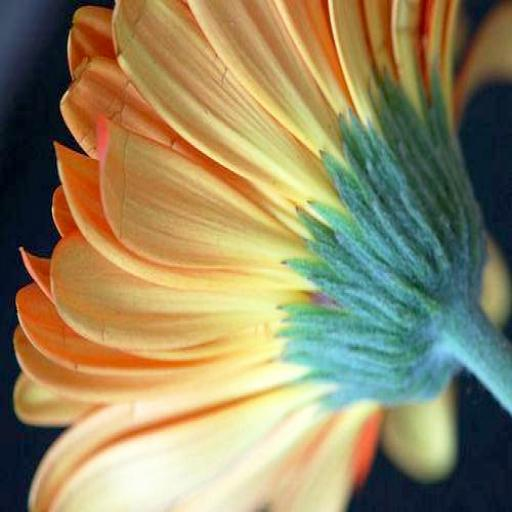daisy: (24, 0, 504, 512)
